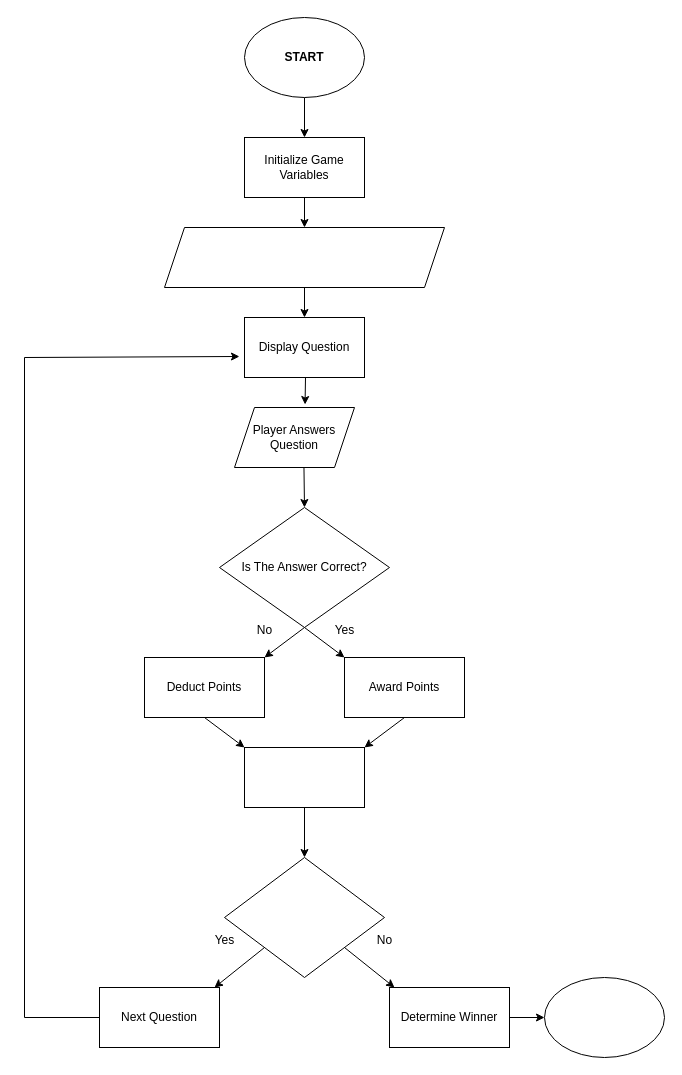
This 682x1075 diagram has some shape labels left out. Here are the shapes that lost their labels. From the top down, the box of each, then its label:
(164, 226, 444, 288): Player Chooses Category and Point Value
(244, 746, 364, 808): Update Score
(224, 856, 384, 978): Are There Questions Remaining?
(544, 976, 664, 1058): END
